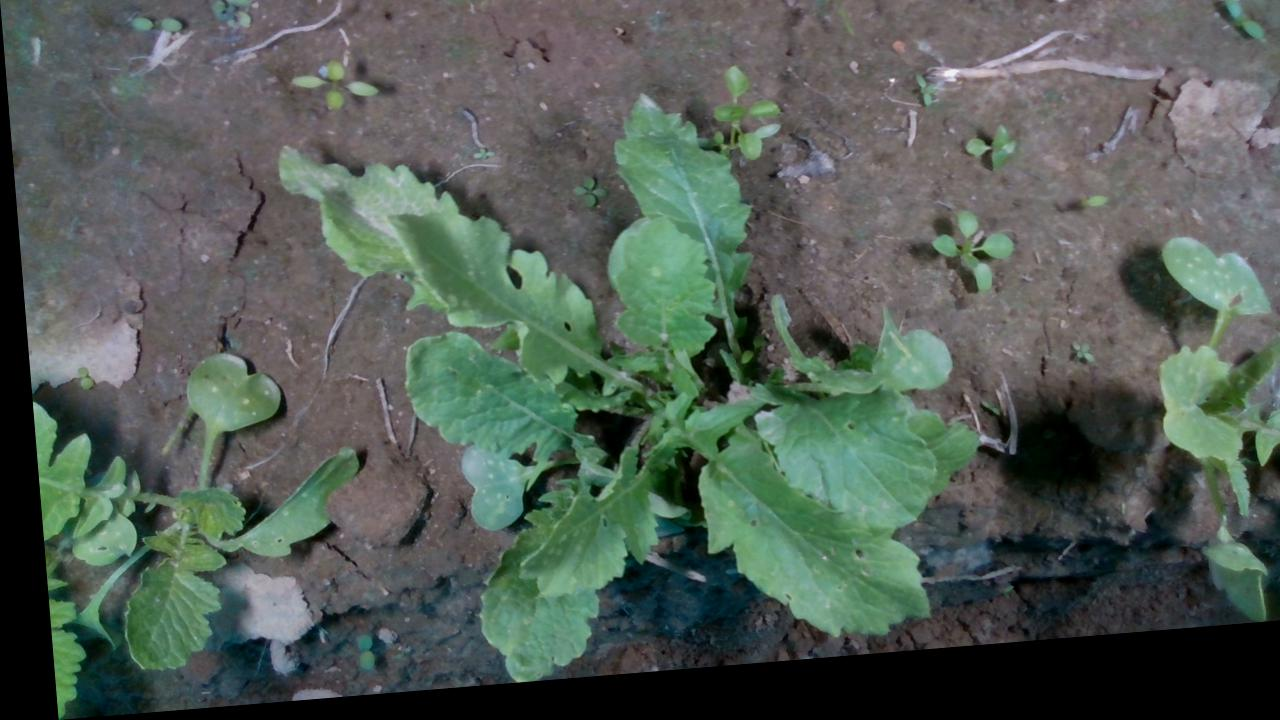weed: (280, 56, 380, 119), (956, 135, 1014, 194), (1219, 16, 1263, 64), (565, 182, 605, 221), (123, 14, 183, 39), (908, 87, 937, 125), (341, 637, 364, 678), (1062, 357, 1088, 383), (68, 365, 88, 392), (465, 152, 491, 169), (1161, 0, 1195, 11)
